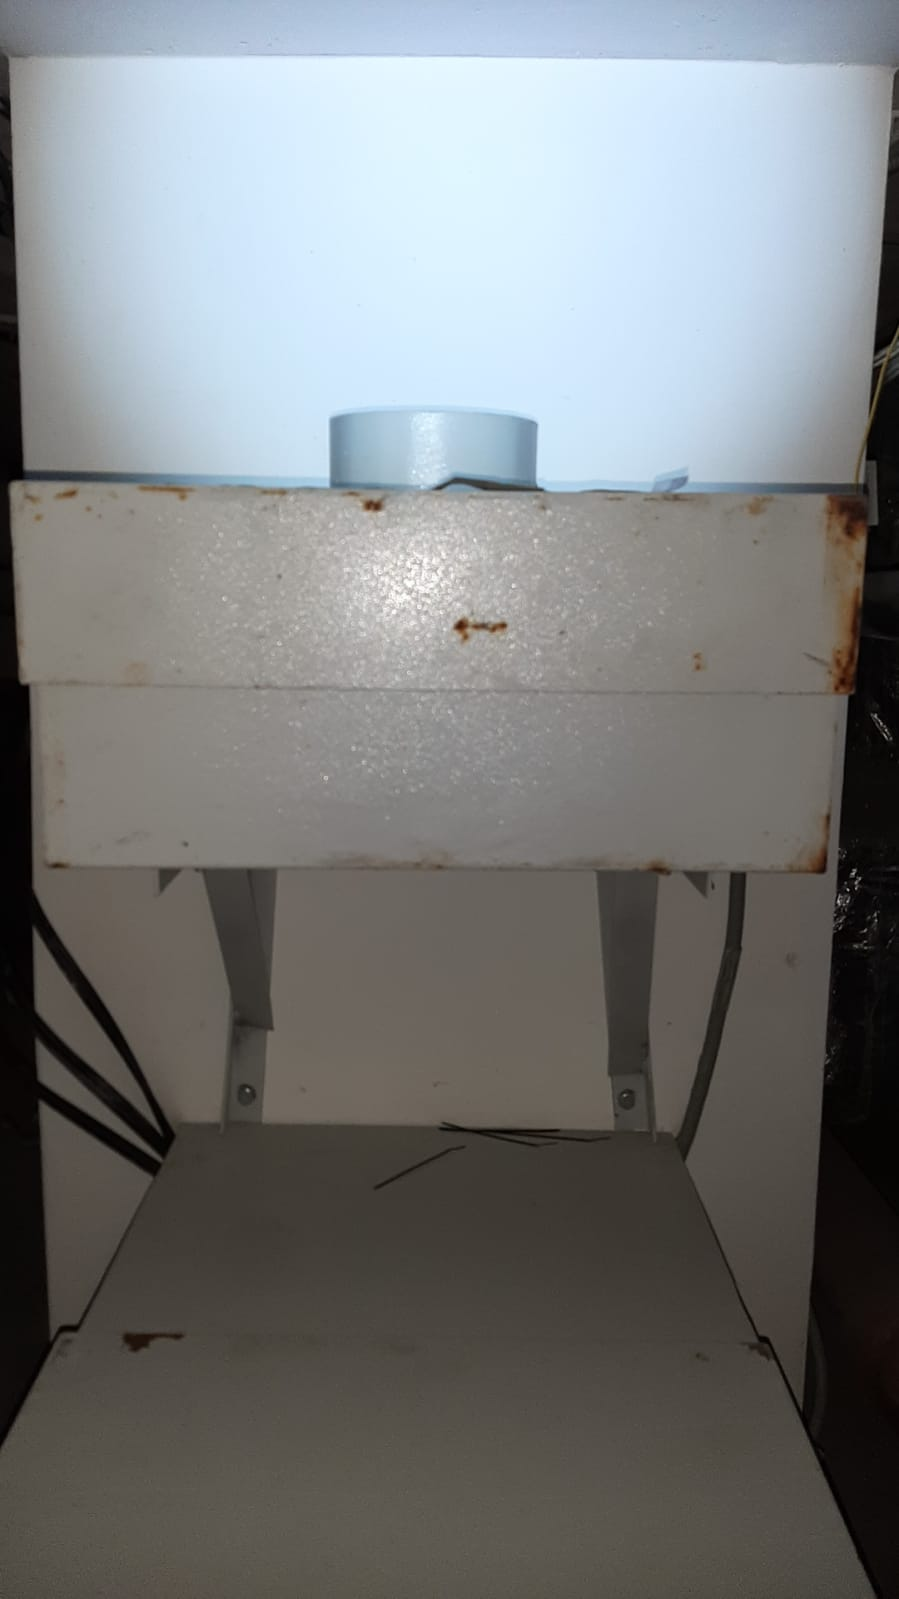shta-ps: (10, 393, 864, 893)
